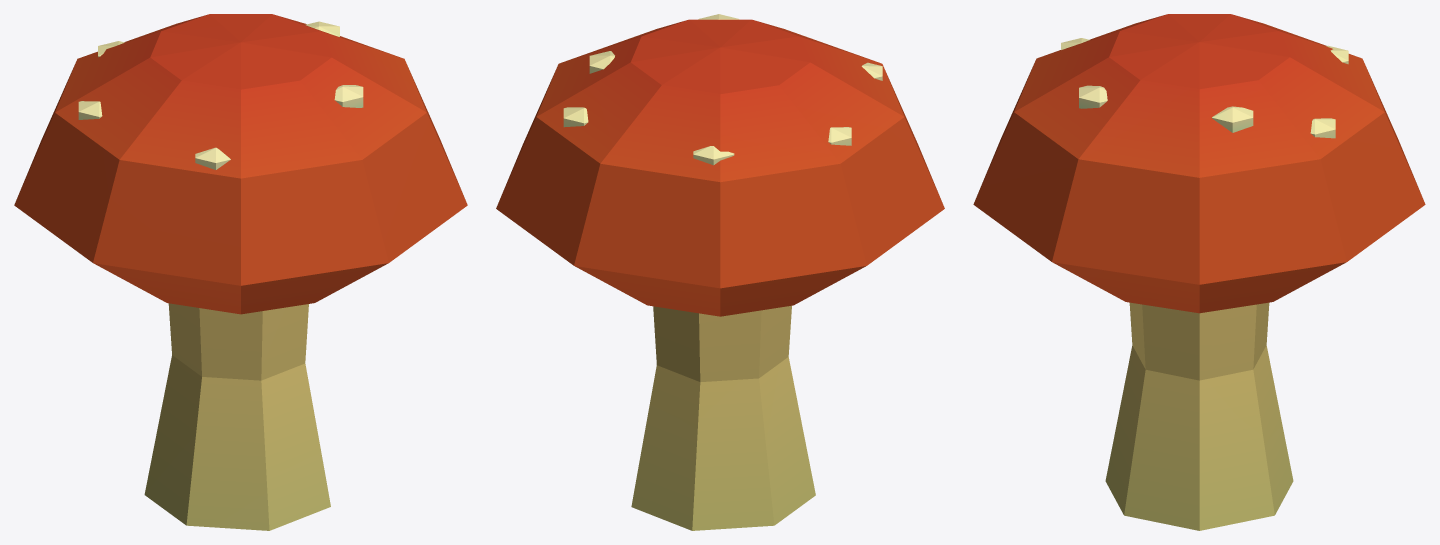
File: Mushroom_Red_01.glb
3 renders of one model, left to right at view 1: azimuth 30°, elevation 25°; view 2: azimuth 150°, elevation 25°; view 3: azimuth 270°, elevation 25°, orthographic.
Parts seen in each view (by area): view 1: Mushroom_Red_01; view 2: Mushroom_Red_01; view 3: Mushroom_Red_01.
Boxes of the visible parts, x1=… form: Mushroom_Red_01: x1=14, y1=14, x2=467, y2=530; Mushroom_Red_01: x1=496, y1=14, x2=944, y2=530; Mushroom_Red_01: x1=973, y1=14, x2=1425, y2=530.
Bounding box in the file's own units: 0.2328 × 0.2584 × 0.2364.
